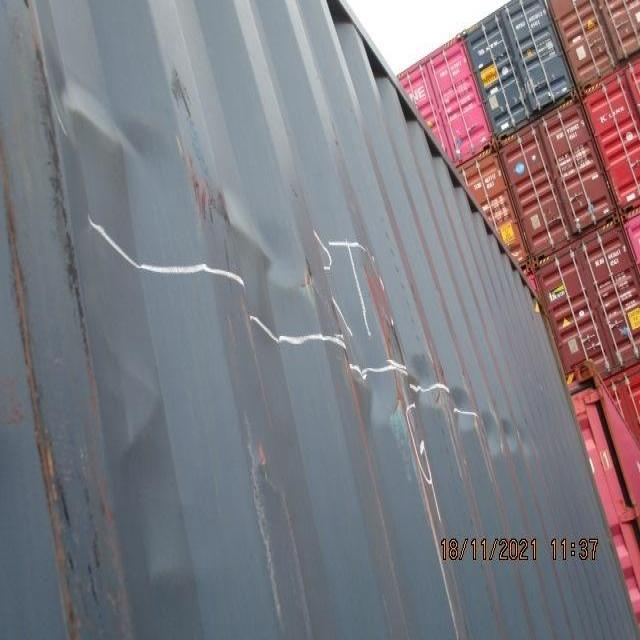dent: (58, 76, 314, 308), (366, 344, 536, 476)
